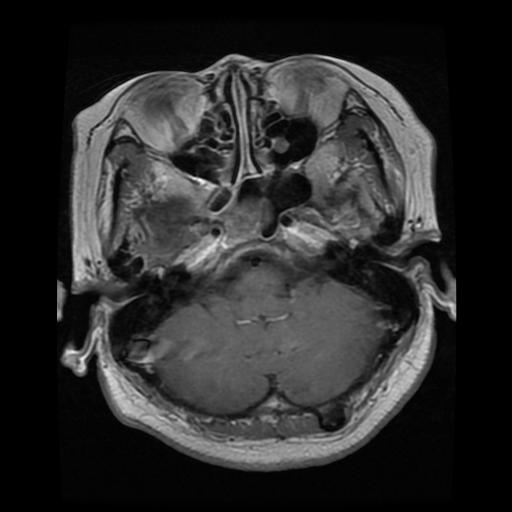Pituirity_tumour: (222, 198, 273, 240)
